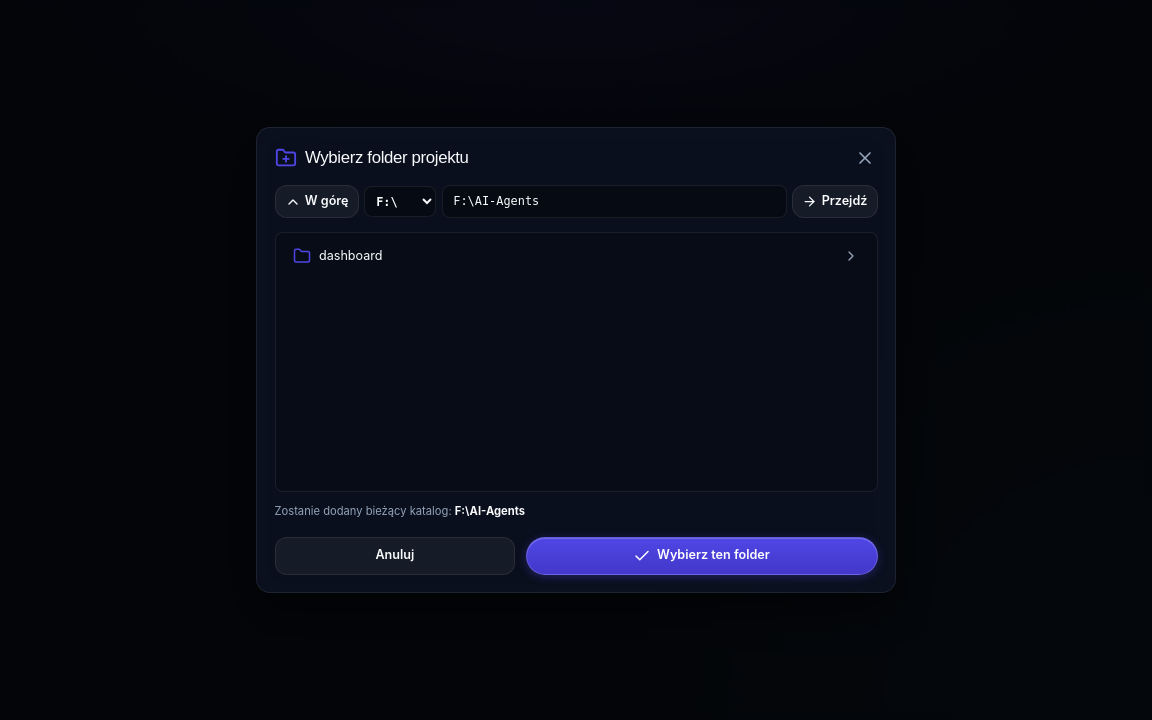
Test case: FolderPickerDialog Component › allows user to edit path in input and navigate via "Przejdź" button
This screenshot has width=1152, height=720.
Check: the text "dashboard" is shown, box [319,247,383,266]
Replace the text in the field named "Ścieżka folderu" with "C:\\Projects" at (615, 202), box [442,185,788,218]
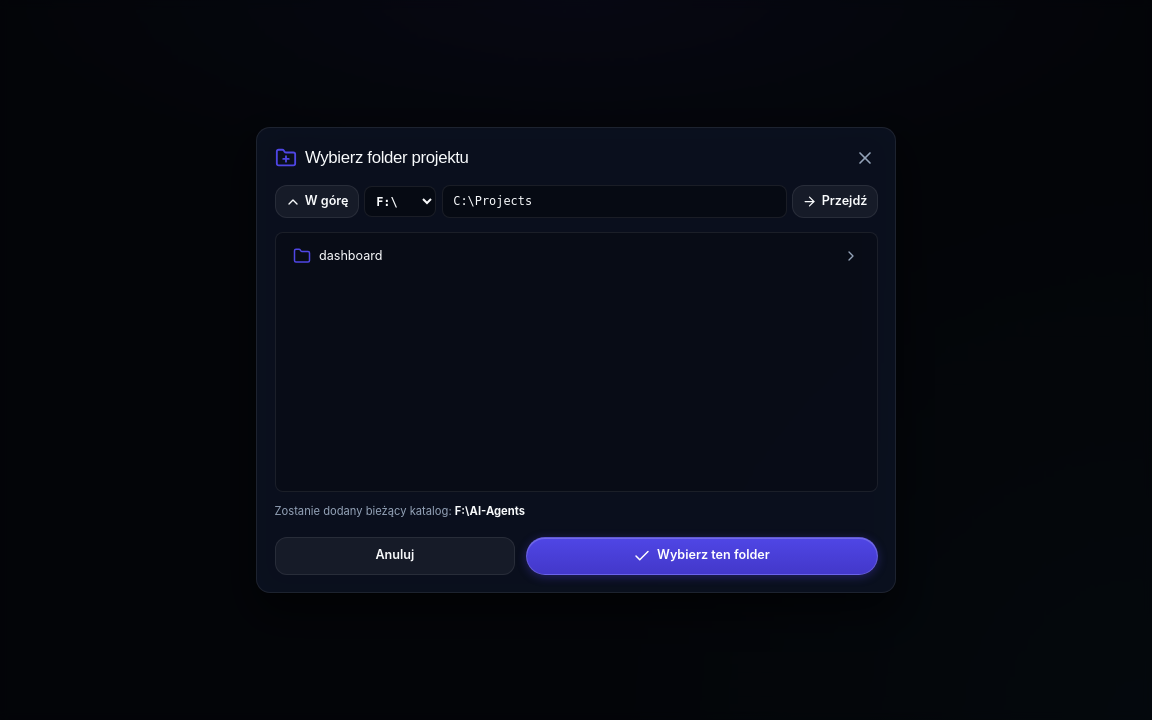
Click the button with aria-label "Przejdź do ścieżki" at (835, 202), box [792,185,878,218]
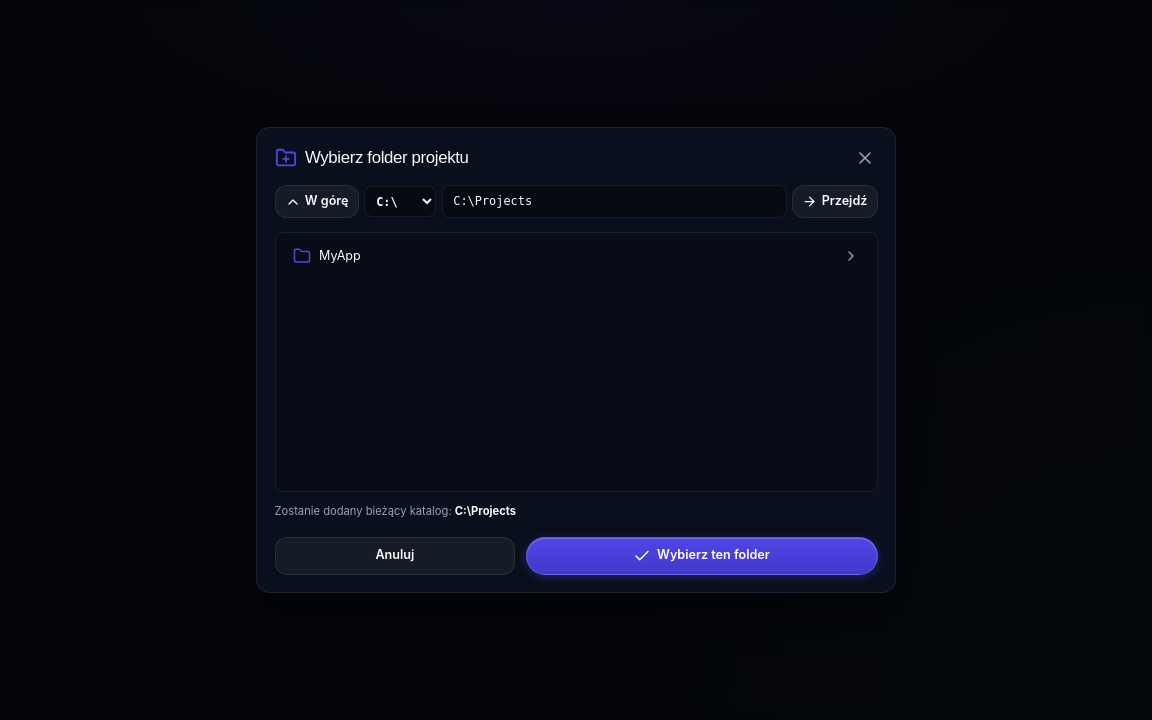
Check: the text "MyApp" is shown, box [319,247,361,266]
